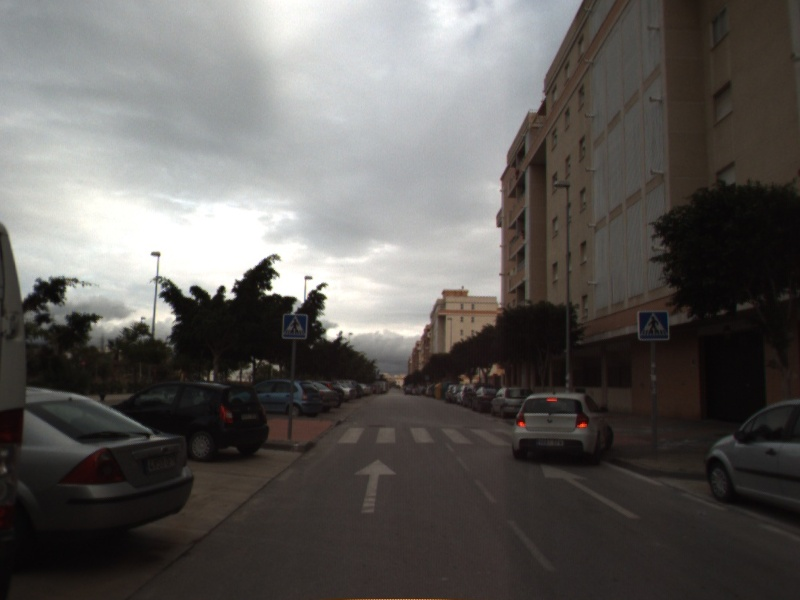STRAIGHT: (539, 462, 644, 521), (351, 457, 400, 515)
